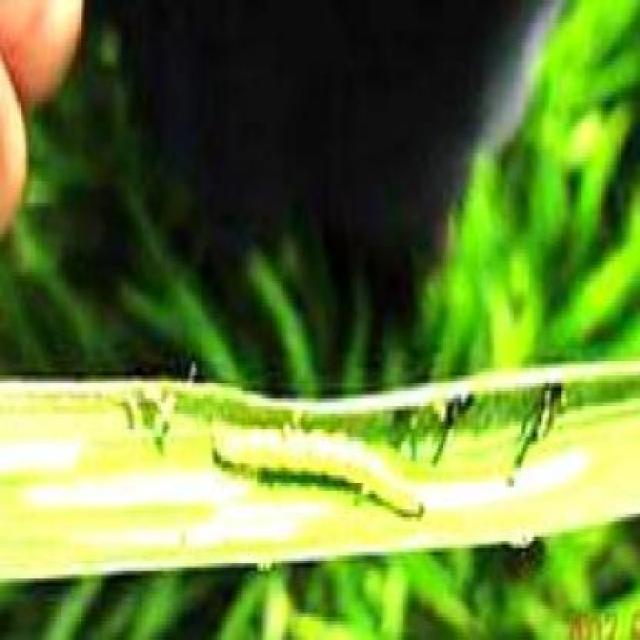leaf-folder: (205, 408, 429, 534)
